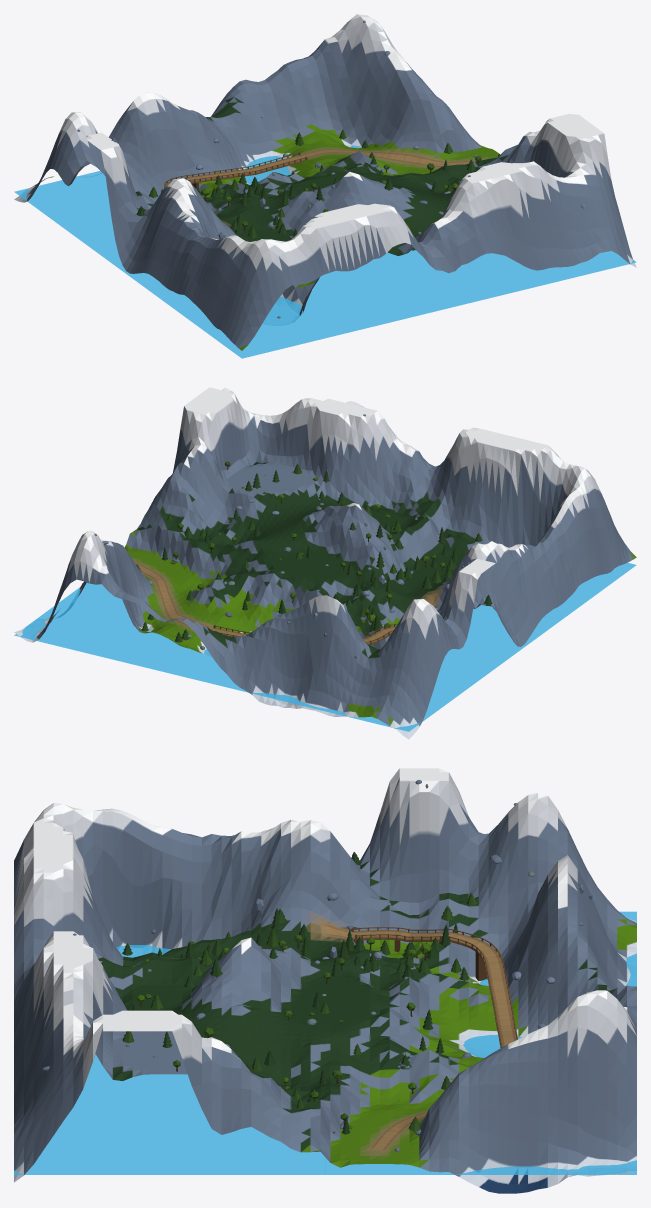
File: terrapoly_plain_4.glb
The picture shows the model from 3 angles, top to bottom: view 1: azimuth 30°, elevation 25°; view 2: azimuth 150°, elevation 25°; view 3: azimuth 270°, elevation 25°; orthographic projection. The views are drawn at different scales.
Parts seen in each view (by area): view 1: Plain 1 Terrain, Plain 1 Water, Plain 1 Trees, Road 1, Road 1 Bridges, Plain 1 Rocks; view 2: Plain 1 Terrain, Plain 1 Water, Plain 1 Trees, Road 1, Plain 1 Rocks; view 3: Plain 1 Terrain, Plain 1 Water, Plain 1 Trees, Road 1, Road 1 Bridges, Plain 1 Rocks.
Boxes of the visible parts, x1,y1,x2,y2 form: Plain 1 Terrain: (14,14,636,350); Plain 1 Water: (14,145,636,358); Plain 1 Trees: (137,129,499,238); Road 1: (165,149,484,186); Road 1 Bridges: (164,152,307,189); Plain 1 Rocks: (77,20,585,318); Plain 1 Terrain: (14,387,636,739); Plain 1 Water: (14,562,636,731); Plain 1 Trees: (136,461,492,642); Road 1: (134,560,439,643); Plain 1 Rocks: (94,414,470,658); Plain 1 Terrain: (14,768,636,1193); Plain 1 Water: (14,911,636,1174); Plain 1 Trees: (122,852,477,1134); Road 1: (319,920,516,1152); Road 1 Bridges: (351,927,517,1047); Plain 1 Rocks: (42,780,592,1151).
Size of the model in its own units: 100 by 28.99 by 100.
5 materials, 1 textured.
